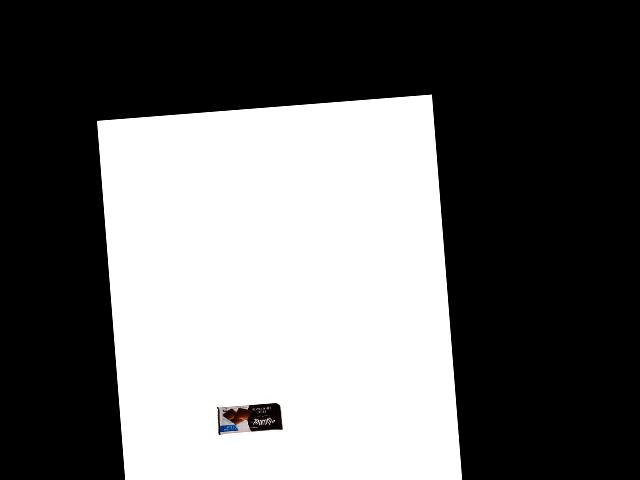chocolate: (215, 400, 282, 435)
